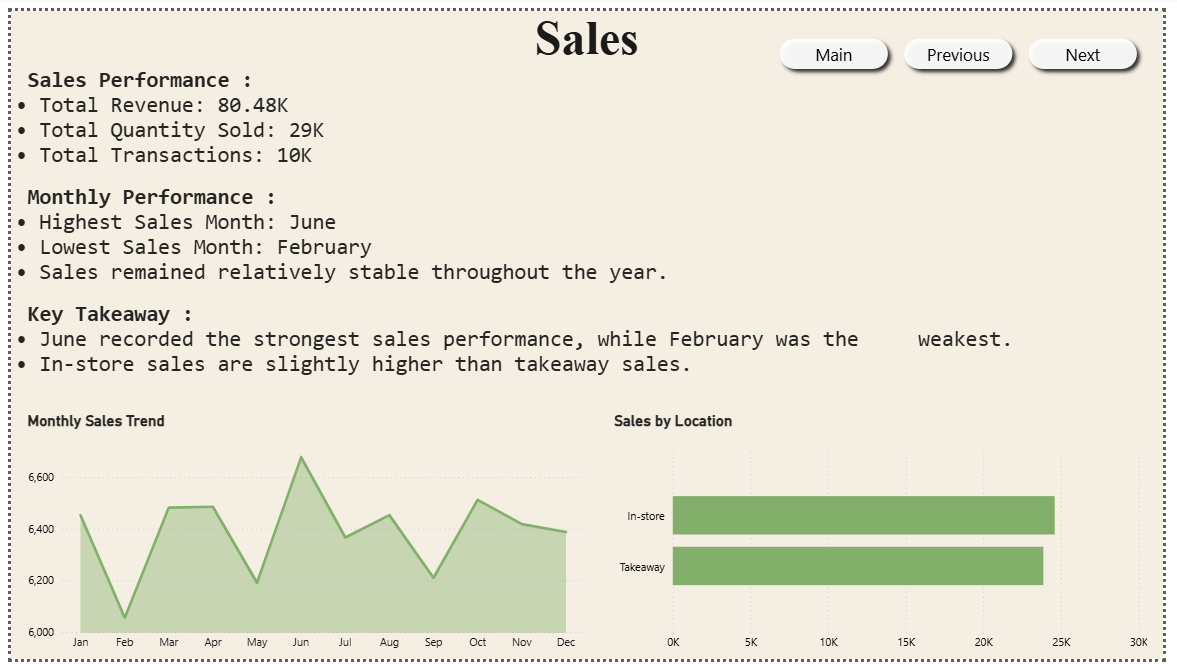

This screenshot's page, from the dashboard's own definition file:
{"tool":"powerbi","page":{"name":"Sales","canvas":[1280,720],"ordinal":2},"visuals":[{"type":"textbox","title":"Sales","box":[0,0,1279.5,720.5],"z":0},{"type":"textbox","box":[0,56.4,1279.5,664.1],"z":1},{"type":"lineChart","title":"Monthly Sales Trend","fields":{"Category":["cleaned_cafe_sales.Month Short"],"Y":["Sum(cleaned_cafe_sales.Total_spent_calculated)"]},"box":[12.5,445,627.5,275],"z":2},{"type":"barChart","title":"Sales by Location","fields":{"Category":["cleaned_cafe_sales.Location"],"Y":["Sum(cleaned_cafe_sales.Total_spent_calculated)"]},"box":[665,445,602.5,275],"z":3},{"type":"actionButton","box":[983.9,21,138.3,51.7],"z":4},{"type":"actionButton","box":[845.2,21,138.3,51.7],"z":5},{"type":"actionButton","box":[1121,21,138.3,51.7],"z":6}]}

Visuals, with their boxes in screenshot pixels (x1, y1, x2, y2), scaled from the page's 1280x720 canvas onto the 1177x669 screenshot:
"Sales" textbox: (0,0,1176,668)
textbox: (0,52,1176,668)
"Monthly Sales Trend" lineChart: (11,413,588,668)
"Sales by Location" barChart: (611,413,1166,668)
actionButton: (905,20,1032,68)
actionButton: (777,20,904,68)
actionButton: (1031,20,1158,68)
